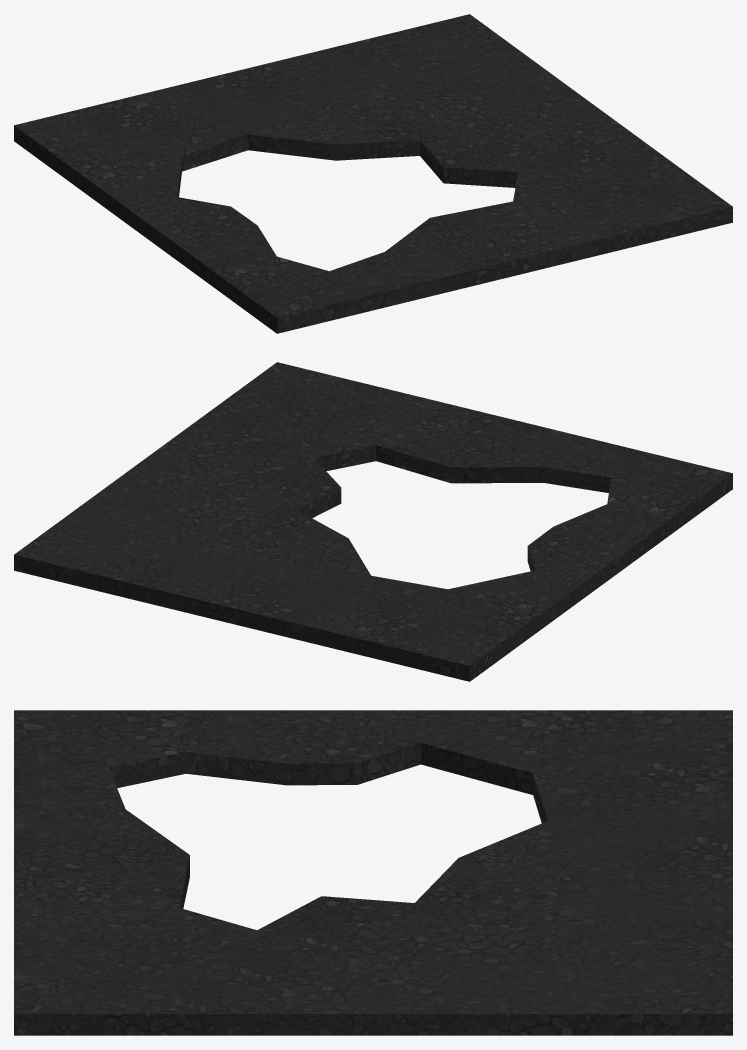
Rendered from roof_flat_destroyed02.fbx.
The picture shows the model from 3 angles, top to bottom: view 1: azimuth 30°, elevation 25°; view 2: azimuth 150°, elevation 25°; view 3: azimuth 270°, elevation 25°; orthographic projection. The views are drawn at different scales.
Parts seen in each view (by area): view 1: roof_flat_destroyed02; view 2: roof_flat_destroyed02; view 3: roof_flat_destroyed02.
Boxes of the visible parts, x1,y1,x2,y2 form: roof_flat_destroyed02: (14, 14, 732, 333); roof_flat_destroyed02: (14, 362, 732, 681); roof_flat_destroyed02: (14, 710, 732, 1035).
Bounding box in the file's own units: 300 × 10 × 300.
